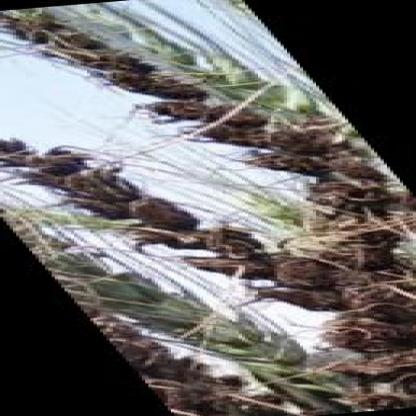Wheat Smut: (351, 309, 403, 349), (351, 262, 403, 298), (268, 260, 338, 283), (284, 151, 362, 171), (172, 232, 252, 251), (316, 178, 384, 200), (332, 208, 398, 228), (123, 199, 175, 222), (156, 365, 196, 394), (201, 253, 256, 271), (362, 357, 415, 373), (70, 178, 112, 197), (297, 125, 335, 145), (102, 74, 163, 86), (53, 37, 105, 50), (217, 132, 273, 144), (164, 106, 214, 119), (290, 289, 327, 306), (104, 318, 131, 341), (368, 392, 405, 407), (16, 17, 51, 32), (85, 57, 132, 68), (354, 237, 384, 254), (5, 141, 28, 163), (53, 156, 79, 174), (140, 85, 198, 93), (188, 403, 223, 416), (238, 115, 268, 128)
